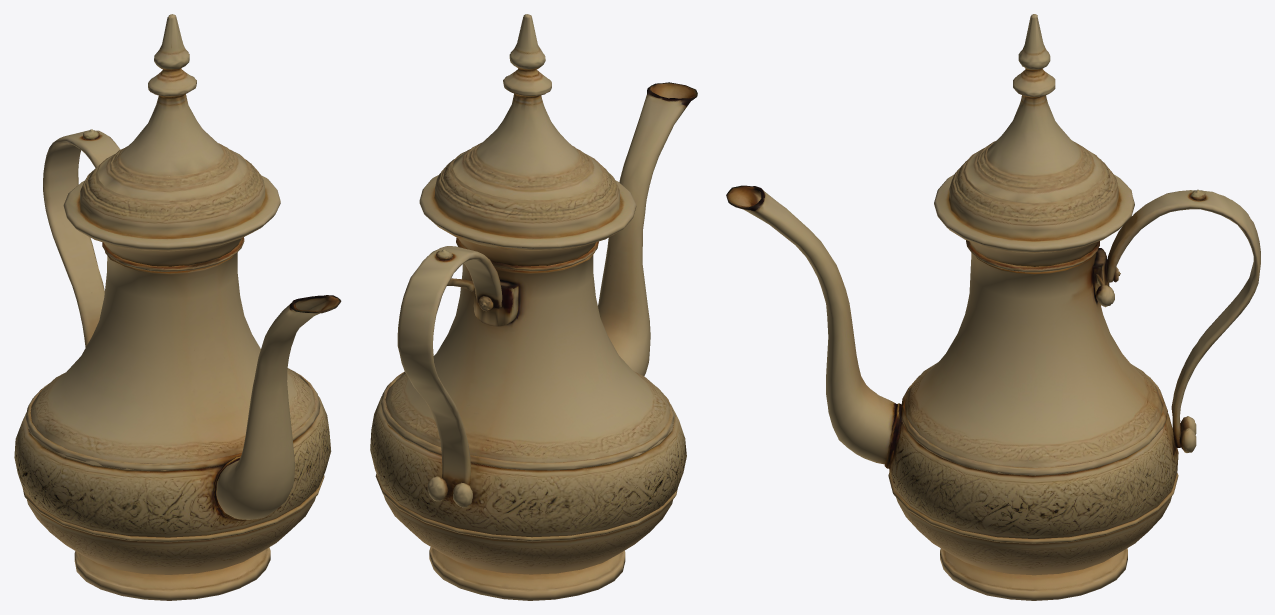
File: r33-coffeepot.glb
The picture shows the model from 3 angles, left to right: view 1: azimuth 30°, elevation 25°; view 2: azimuth 150°, elevation 25°; view 3: azimuth 270°, elevation 25°; orthographic projection.
Visible parts, largest first — view 1: tripo_node_4843f79d-4ac2-4e98-b7c7-77240dde5c94; view 2: tripo_node_4843f79d-4ac2-4e98-b7c7-77240dde5c94; view 3: tripo_node_4843f79d-4ac2-4e98-b7c7-77240dde5c94.
Part boxes in pixels (x1,y1,x2,y2): tripo_node_4843f79d-4ac2-4e98-b7c7-77240dde5c94: [14, 14, 341, 600]; tripo_node_4843f79d-4ac2-4e98-b7c7-77240dde5c94: [370, 14, 697, 600]; tripo_node_4843f79d-4ac2-4e98-b7c7-77240dde5c94: [726, 14, 1260, 600].
Bounding box in the file's own units: 0.541 × 0.998 × 0.8887.
1 material, 1 textured.
